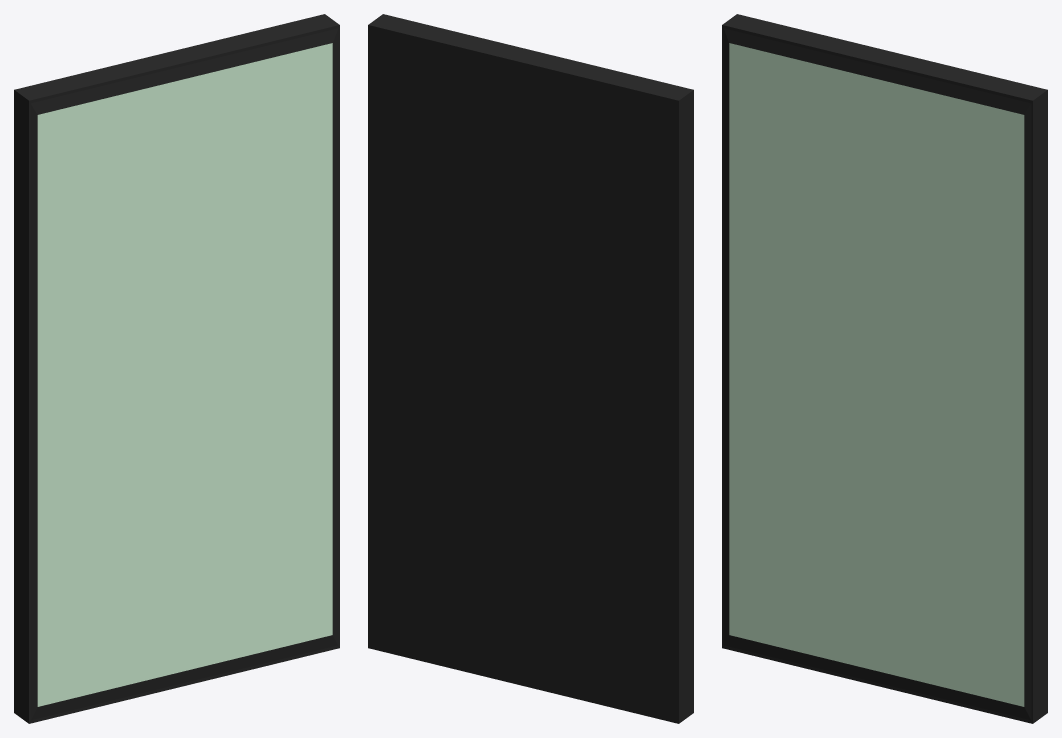
The model's file is Mirror.glb.
The picture shows the model from 3 angles, left to right: view 1: azimuth 30°, elevation 25°; view 2: azimuth 150°, elevation 25°; view 3: azimuth 330°, elevation 25°; orthographic projection.
Visible parts, largest first — view 1: Mirror; view 2: Mirror; view 3: Mirror.
Boxes of the visible parts, x1,y1,x2,y2 form: Mirror: [14, 14, 339, 723]; Mirror: [368, 14, 693, 723]; Mirror: [722, 14, 1047, 723].
Size of the model in its own units: 2.4 by 4.6 by 0.21.
2 materials, 1 textured.
